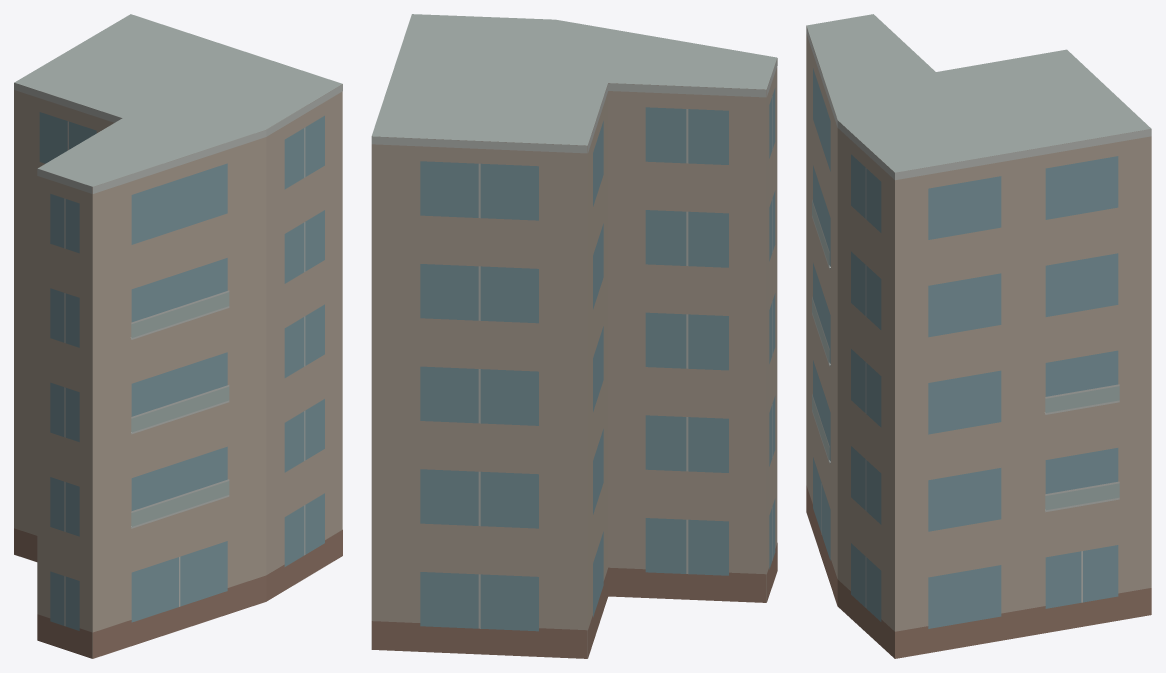
Rendered from survey-upis-32480077.glb.
3 renders of one model, left to right at view 1: azimuth 30°, elevation 25°; view 2: azimuth 150°, elevation 25°; view 3: azimuth 270°, elevation 25°, orthographic. The views are drawn at different scales.
Parts seen in each view (by area): view 1: survey-upis-32480077.tmp; view 2: survey-upis-32480077.tmp; view 3: survey-upis-32480077.tmp.
Part boxes in pixels (x1,y1,x2,y2): survey-upis-32480077.tmp: (14,14,342,658); survey-upis-32480077.tmp: (371,14,777,658); survey-upis-32480077.tmp: (806,14,1151,658).
Size of the model in its own units: 11.07 by 15.8 by 10.18.
